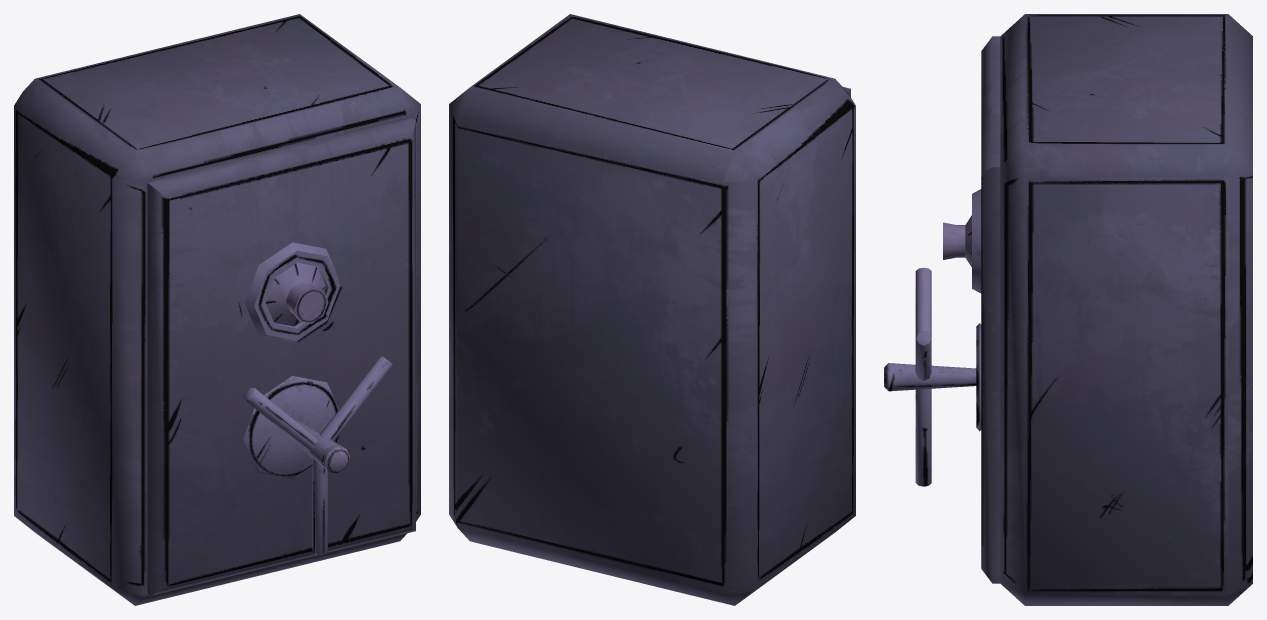
The model's file is Large_Safe.glb.
3 renders of one model, left to right at view 1: azimuth 30°, elevation 25°; view 2: azimuth 150°, elevation 25°; view 3: azimuth 270°, elevation 25°, orthographic.
Parts seen in each view (by area): view 1: Large safe.002, Large safe.001; view 2: Large safe.001; view 3: Large safe.001, Large safe.002.
Boxes of the visible parts, bbox=[...] form: Large safe.002: bbox=[147, 118, 415, 595]; Large safe.001: bbox=[14, 14, 420, 605]; Large safe.001: bbox=[449, 14, 855, 605]; Large safe.001: bbox=[1000, 14, 1252, 605]; Large safe.002: bbox=[884, 36, 1000, 583].
Size of the model in its own units: 1.7 by 2.4 by 1.74.
Materials: 1 (1 with a texture image).
